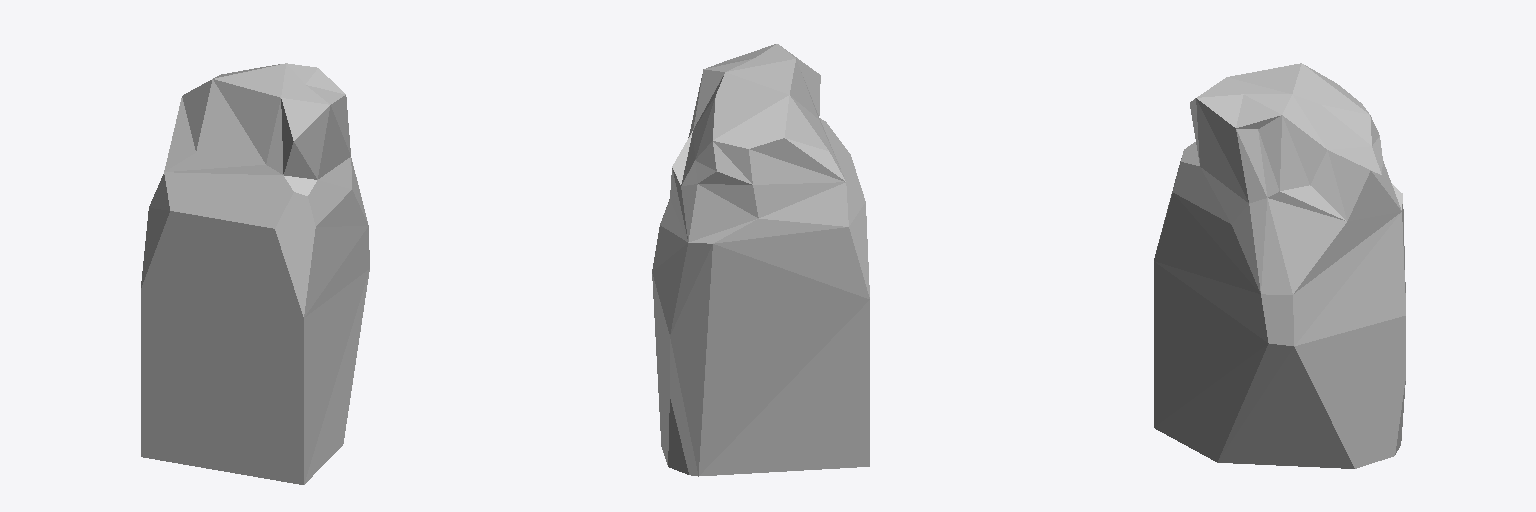
File: Rock.03.obj
3 views of the same model, side by side, from view 1: azimuth 30°, elevation 25°; view 2: azimuth 150°, elevation 25°; view 3: azimuth 270°, elevation 25° (orthographic).
Visible parts, largest first — view 1: Cube.003_low; view 2: Cube.003_low; view 3: Cube.003_low.
Part boxes in pixels (x1,y1,x2,y2): Cube.003_low: (141, 63, 369, 484); Cube.003_low: (652, 44, 869, 476); Cube.003_low: (1154, 63, 1405, 468).
Bounding box in the file's own units: 8.65 × 13.63 × 8.7.